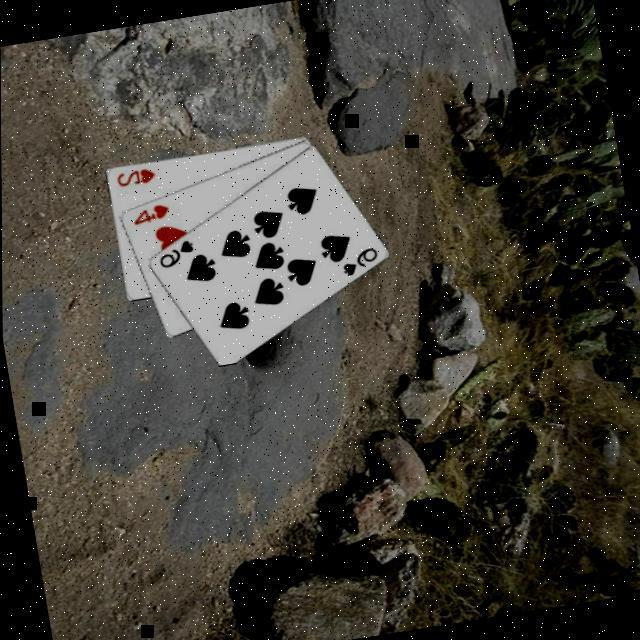2H: (113, 166, 159, 192)
4H: (128, 202, 174, 230)
9S: (338, 244, 383, 282), (154, 237, 199, 273)
